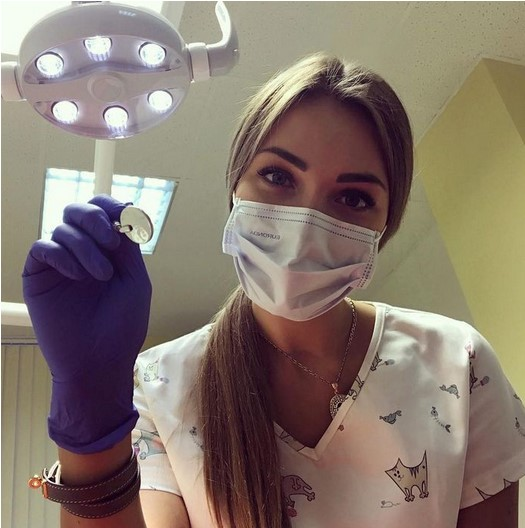face_with_mask: (219, 51, 413, 318)
